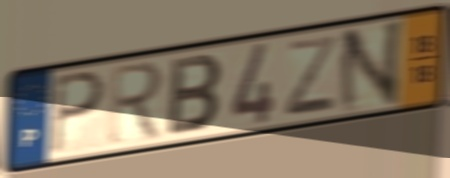4: (229, 38, 278, 130)
B: (165, 52, 226, 139)
N: (336, 15, 408, 119)
P: (50, 69, 107, 158)
R: (107, 58, 166, 148)
Z: (282, 32, 339, 120)
